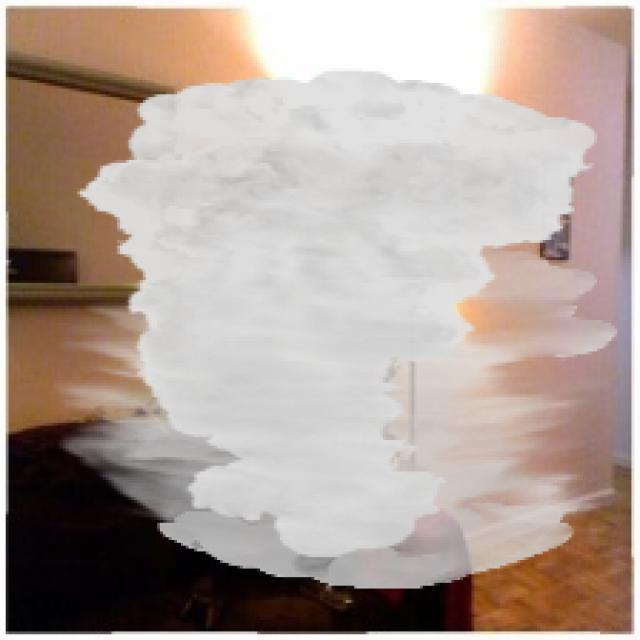Smoke: (54, 69, 617, 588)
